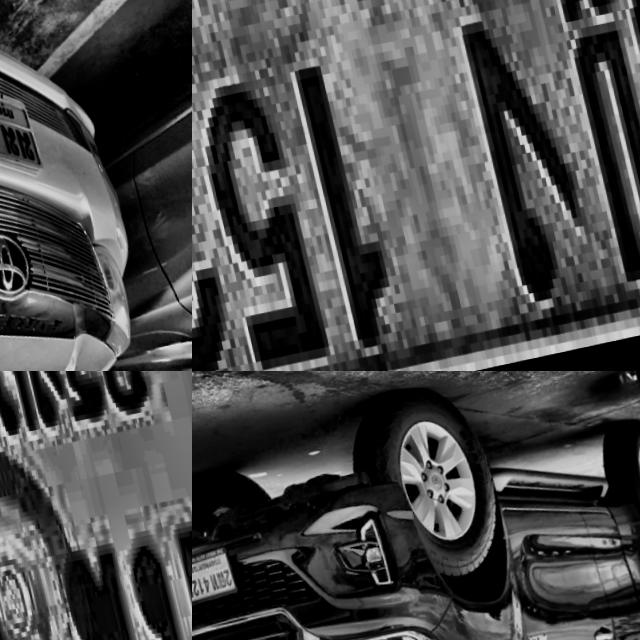license-plate: (192, 0, 640, 371), (0, 371, 192, 640), (0, 42, 42, 197), (192, 539, 236, 611)
